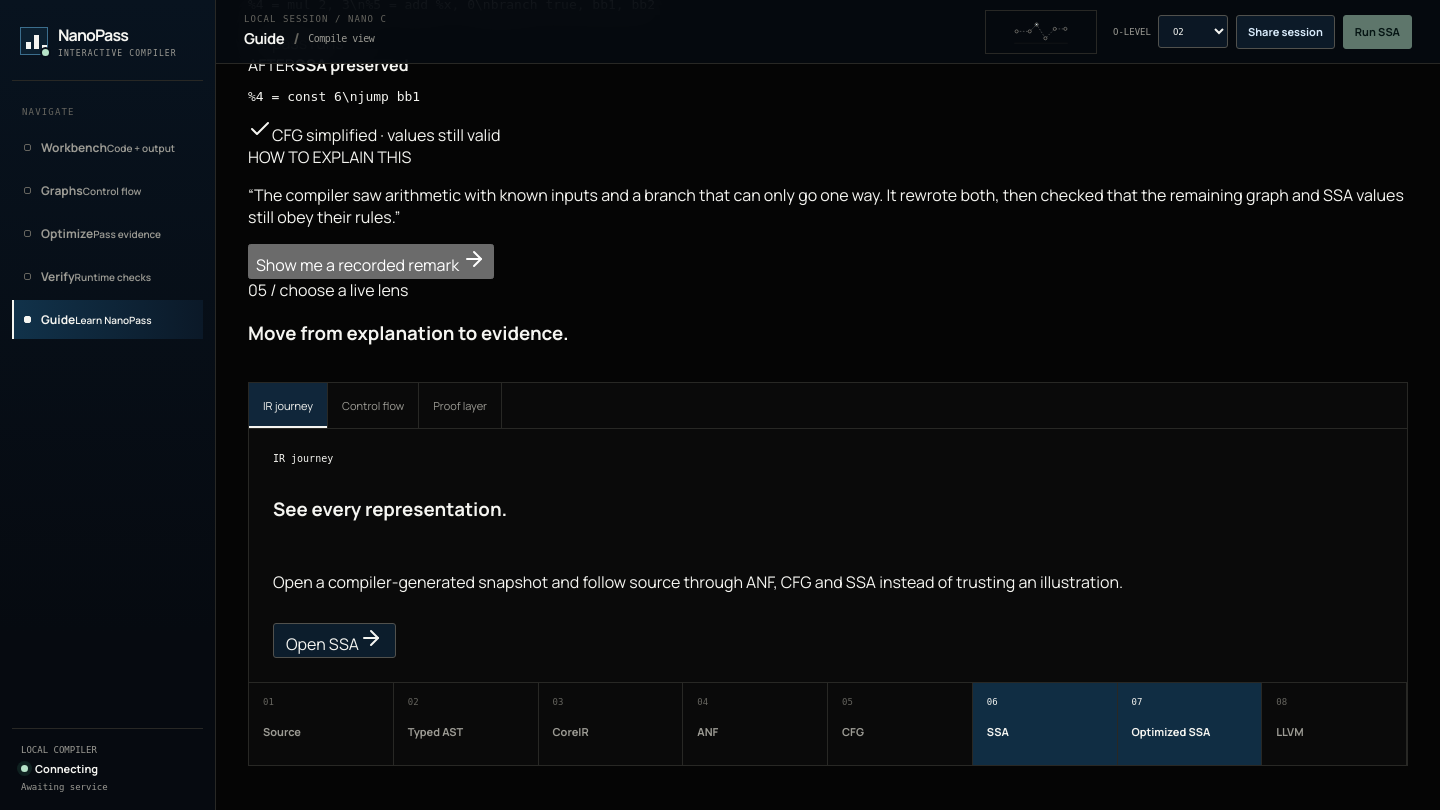
Test: compiler lab › serves the field guide from its own route
(page scrolled)
Click the tab "Control flow" at (374, 405), box [328,383,419,428]
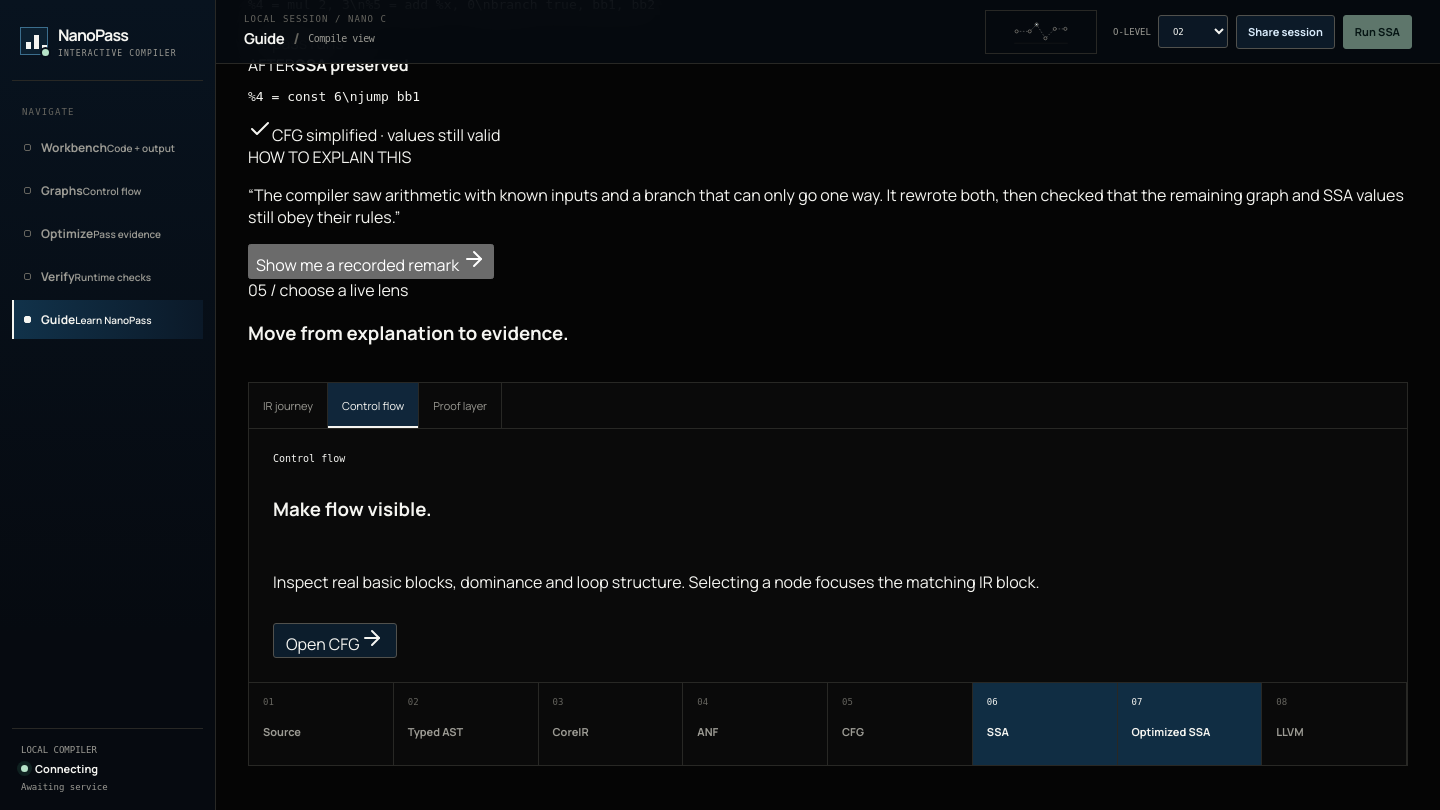
Result: the button "Open CFG" is shown at [273,623,397,658]
